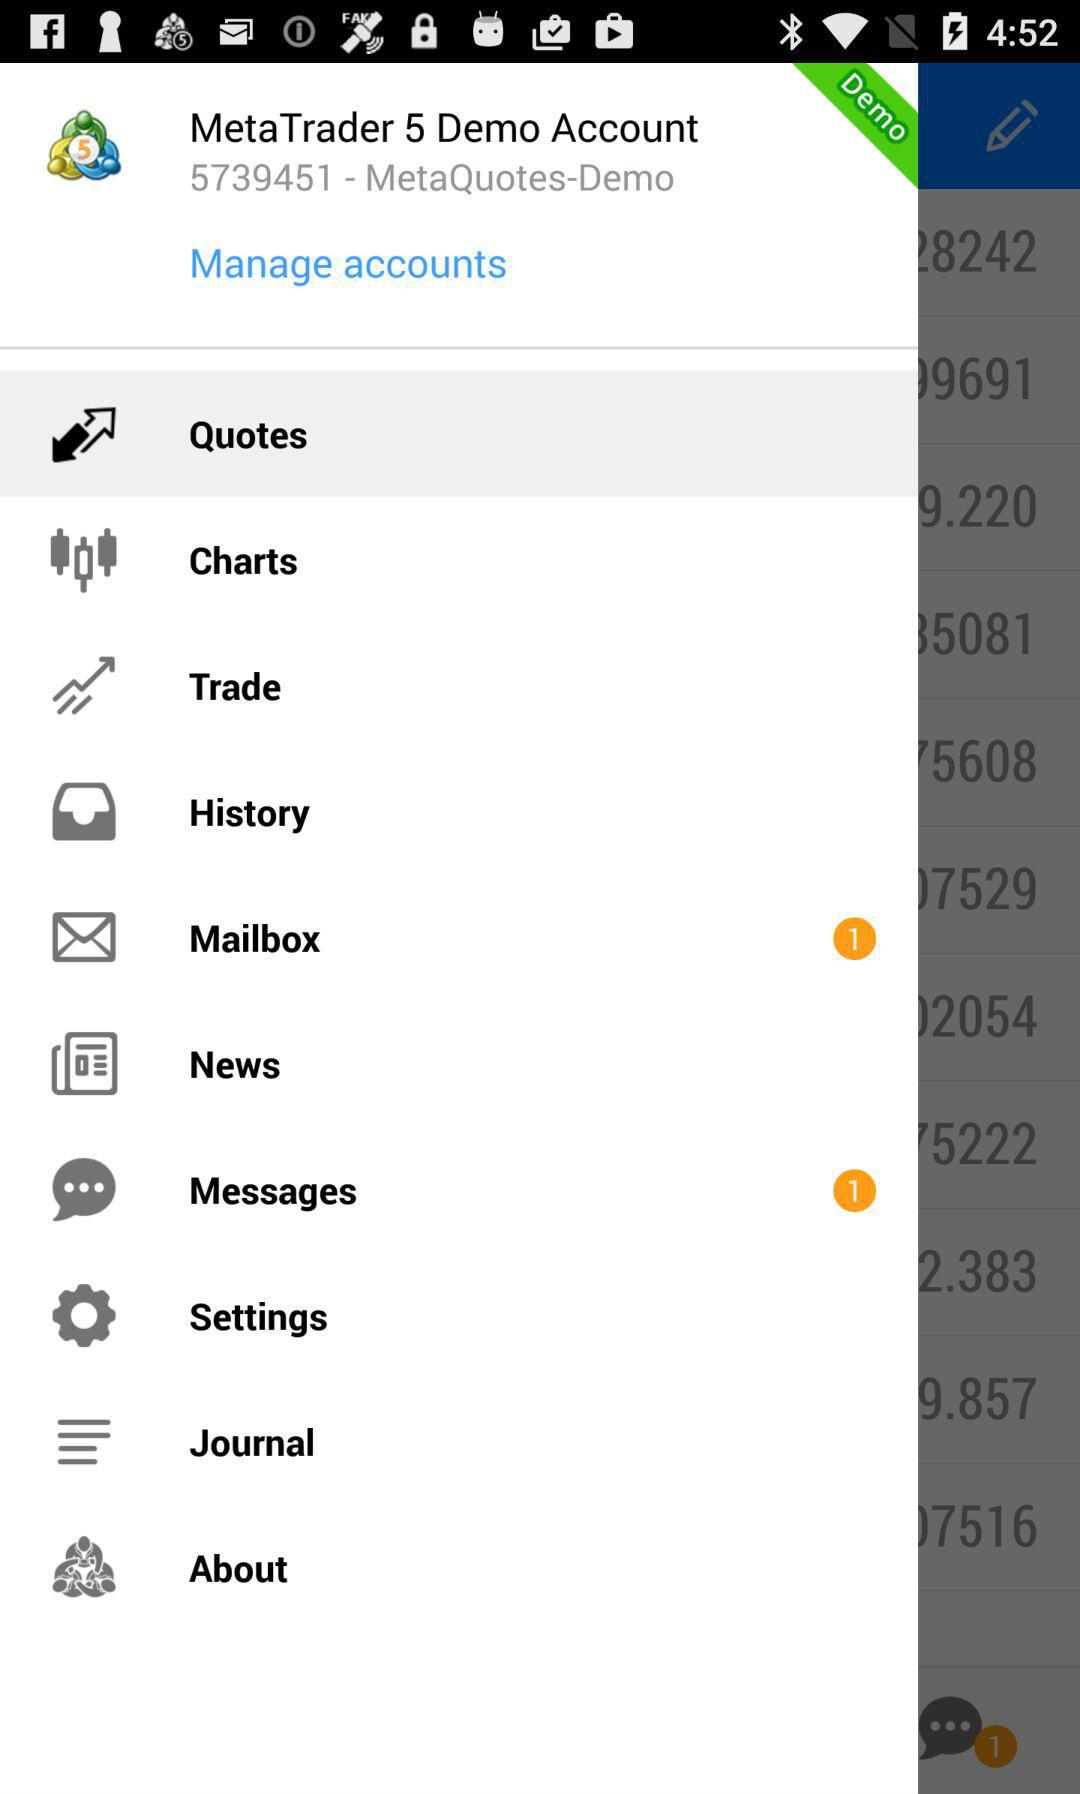Drawer: (1, 64, 919, 1794)
Icon: (53, 1032, 119, 1097), (53, 1283, 118, 1348), (53, 1158, 118, 1222), (53, 656, 118, 718), (53, 407, 119, 464), (53, 911, 118, 964), (56, 1419, 113, 1466)
Image: (47, 110, 123, 183), (50, 527, 119, 595), (53, 1535, 118, 1599), (53, 782, 118, 842), (831, 918, 878, 962), (833, 1169, 878, 1214)
Text: (191, 111, 700, 145), (191, 163, 675, 196), (191, 249, 509, 288), (190, 1176, 357, 1214), (190, 1299, 329, 1339), (190, 797, 313, 835), (191, 923, 322, 955), (190, 1428, 316, 1458), (190, 422, 309, 454), (190, 545, 299, 577), (190, 1553, 290, 1584), (190, 671, 283, 704), (190, 1049, 281, 1082)
UpperTaskBar: (1, 1, 1080, 64)
